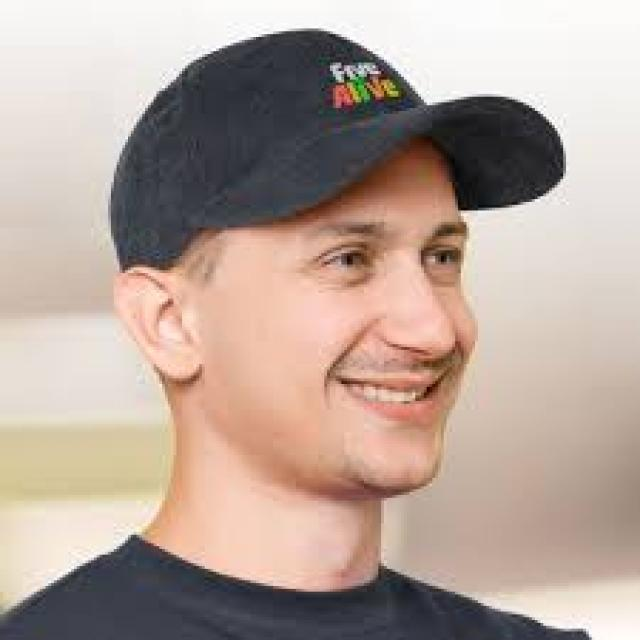cap: (71, 25, 595, 313)
